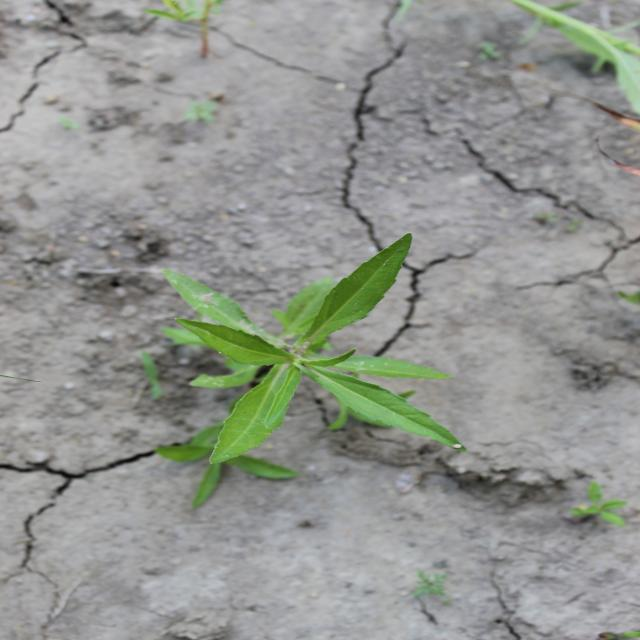Eclipta: (154, 230, 472, 513)
